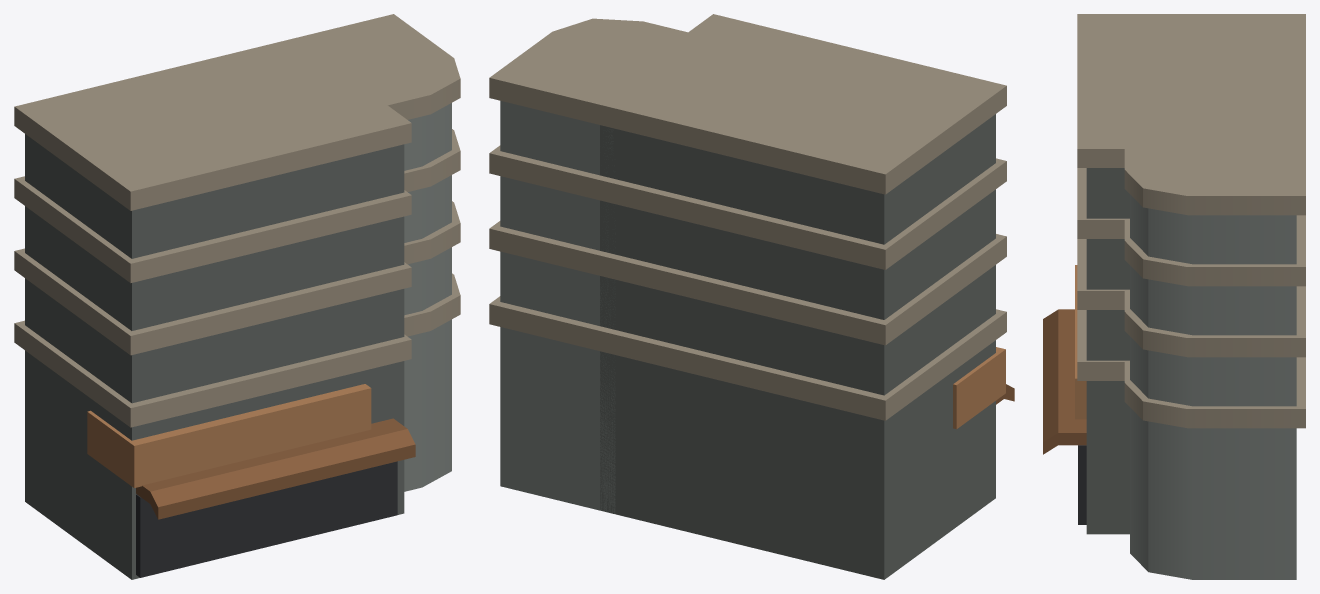
The model's file is Building_05.fbx.
The picture shows the model from 3 angles, left to right: view 1: azimuth 30°, elevation 25°; view 2: azimuth 150°, elevation 25°; view 3: azimuth 270°, elevation 25°; orthographic projection. The views are drawn at different scales.
Parts seen in each view (by area): view 1: pCube378; view 2: pCube378; view 3: pCube378.
Part boxes in pixels (box(x1,y1,x2,y2)): pCube378: box(14, 14, 460, 579); pCube378: box(489, 14, 1014, 579); pCube378: box(1043, 14, 1305, 579).
Size of the model in its own units: 2.65 by 2.63 by 1.62.
